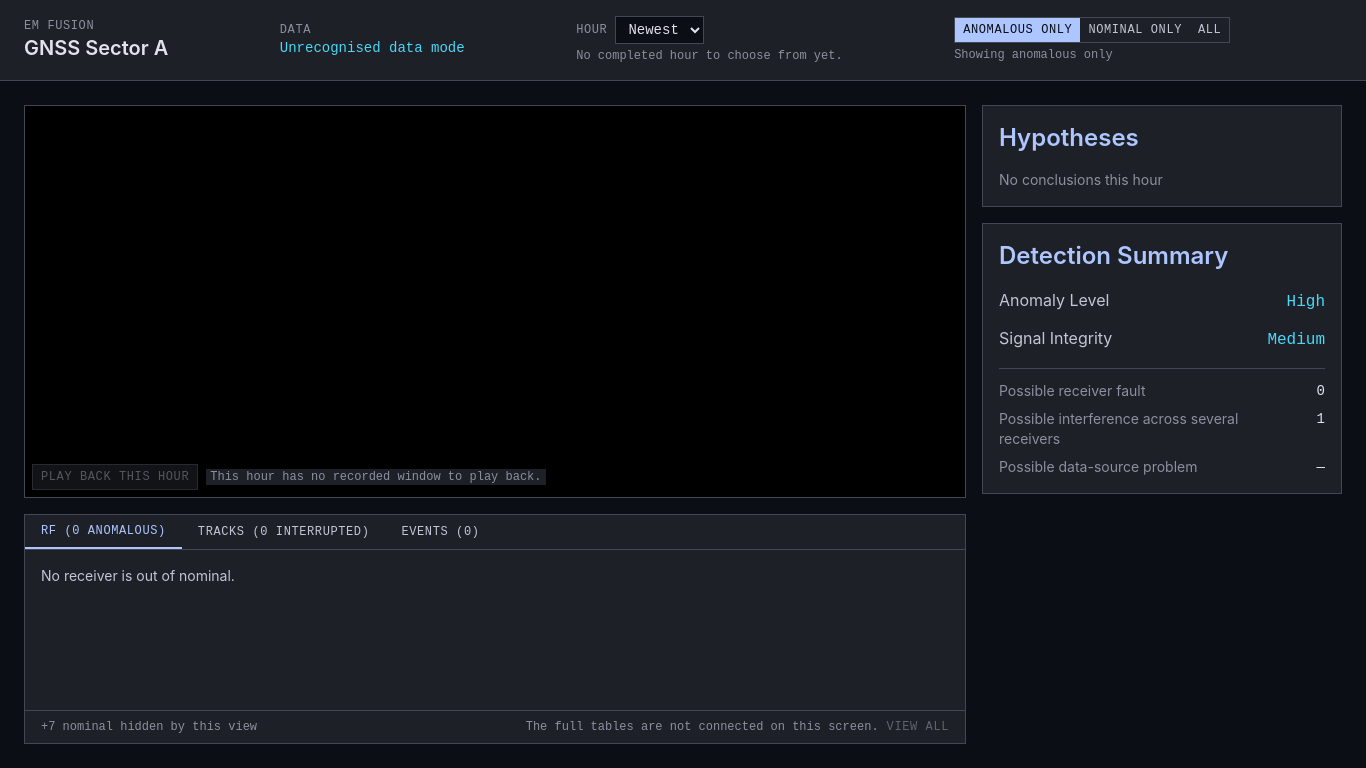
Test: an empty tab says what it found › says a quiet hour has no events
The width and height of the screenshot is (1366, 768).
Click the tab "Events (0)": (440, 532) [386,515,496,549]
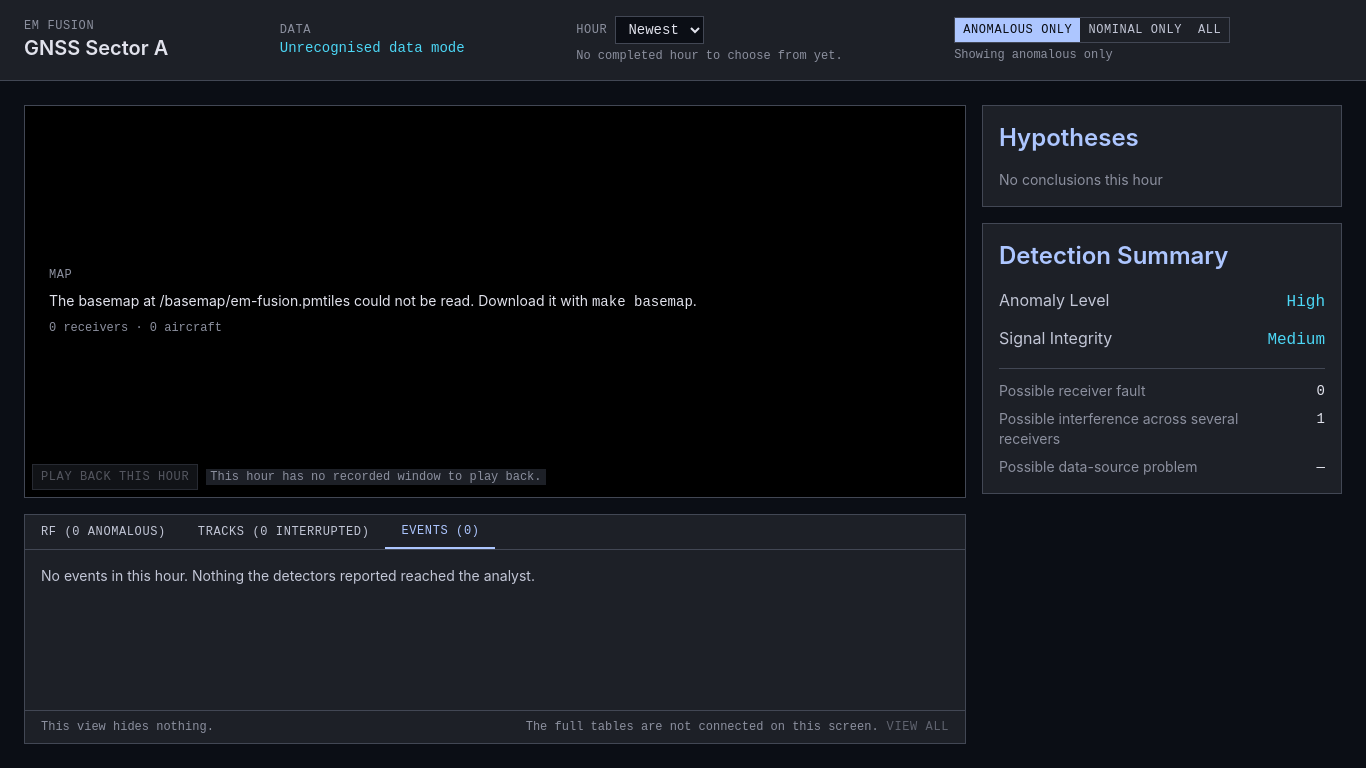
Now the text "No events in this hour" is shown, box [41,567,535,584]
